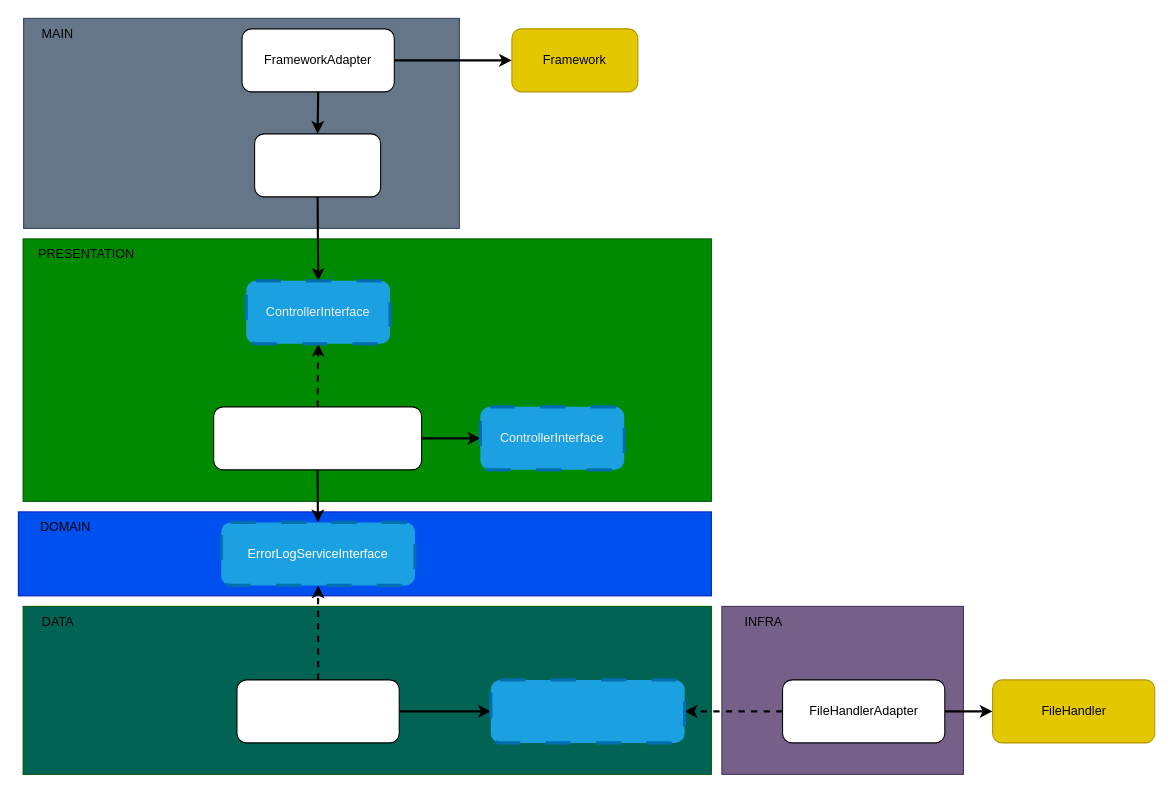
Image size: 1174x793. Some labels were removed from this diagram. The shapes that lost their labels are listed below. From the top down, each one's centre as x and y in pixels, then its label:
At (x=317, y=165): "Routes".
At (x=317, y=438): "ErrorLogControllerDecorator".
At (x=317, y=711): "ErrorLogService".
At (x=587, y=711): "FileWritter".
